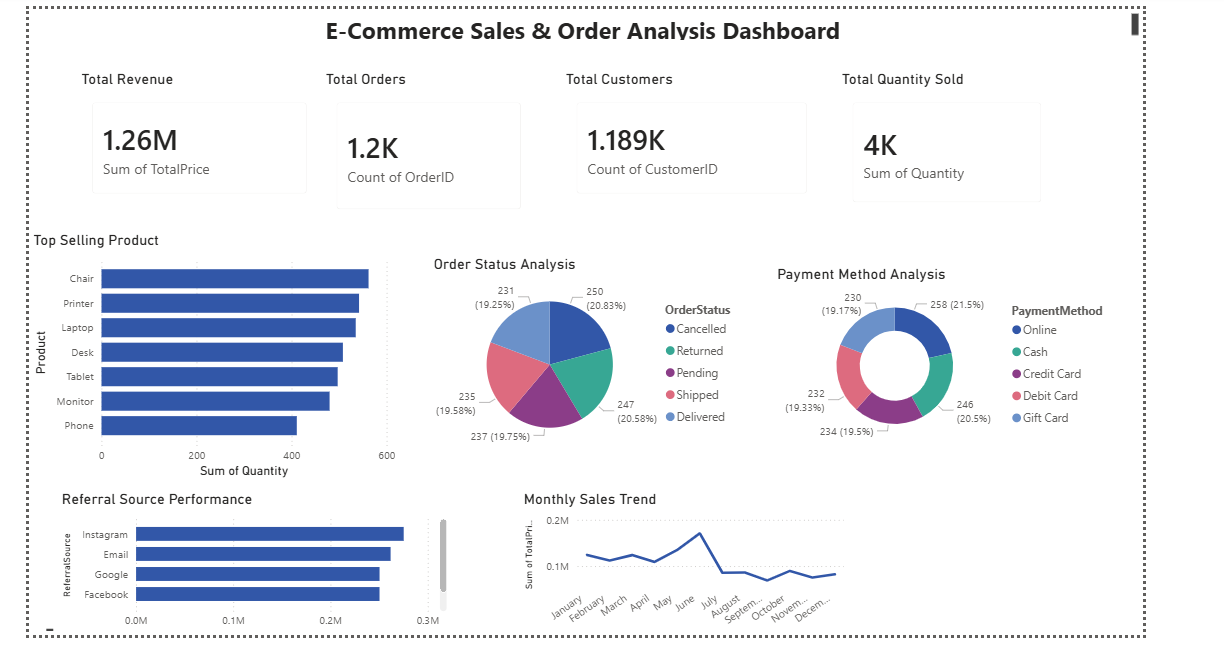

This screenshot's page, from the dashboard's own definition file:
{"tool":"powerbi","page":{"name":"Page 1","canvas":[1280,720],"ordinal":0},"visuals":[{"type":"cardVisual","title":"Total Orders","fields":{"Data":["Count(Sheet1.OrderID)"]},"box":[336.3,71.2,246.8,177.2],"z":1},{"type":"cardVisual","title":"Total Revenue","fields":{"Data":["Sum(Sheet1.TotalPrice)"]},"box":[54.7,71.2,281.6,159],"z":2},{"type":"cardVisual","title":"Total Customers","fields":{"Data":["Count(Sheet1.CustomerID)"]},"box":[612.9,71.2,299.8,159],"z":3},{"type":"cardVisual","title":"Total Quantity Sold","fields":{"Data":["Sum(Sheet1.Quantity)"]},"box":[929.3,71.2,251.8,169],"z":4},{"type":"clusteredBarChart","title":"Top Selling Product","fields":{"Category":["Sheet1.Product"],"Y":["Sum(Sheet1.Quantity)"]},"box":[0,255.1,425.7,288.2],"z":5},{"type":"pieChart","title":"Order Status Analysis","fields":{"Category":["Sheet1.OrderStatus"],"Y":["CountNonNull(Sheet1.OrderID)"]},"box":[460.5,283.3,367.7,231.9],"z":6},{"type":"donutChart","title":" Payment Method Analysis","fields":{"Category":["Sheet1.PaymentMethod"],"Y":["CountNonNull(Sheet1.OrderID)"]},"box":[854.7,294.9,399.2,210.4],"z":7},{"type":"clusteredBarChart","title":" Referral Source Performance","fields":{"Category":["Sheet1.ReferralSource"],"Y":["Sum(Sheet1.TotalPrice)"]},"box":[33.1,553.3,452.2,167.3],"z":8},{"type":"lineChart","title":"Monthly Sales Trend","fields":{"Category":["Sheet1.Date.Variation.Date Hierarchy.Month"],"Y":["Sum(Sheet1.TotalPrice)"]},"box":[563.2,553.3,377.7,167.3],"z":9},{"type":"textbox","box":[0,707.3,33.1,13.3],"z":10},{"type":"textbox","box":[0,0,1280.5,39.8],"z":11}]}

Visuals, with their boxes on the page's 1280x720 design canvas (x1, y1, x2, y2). These are canvas units, not pixel positions in the 1224x650 screenshot, which may show the page scaled, cropped or inside an application window:
"Total Orders" cardVisual: [left=336, top=71, right=583, bottom=248]
"Total Revenue" cardVisual: [left=55, top=71, right=336, bottom=230]
"Total Customers" cardVisual: [left=613, top=71, right=913, bottom=230]
"Total Quantity Sold" cardVisual: [left=929, top=71, right=1181, bottom=240]
"Top Selling Product" clusteredBarChart: [left=0, top=255, right=426, bottom=543]
"Order Status Analysis" pieChart: [left=460, top=283, right=828, bottom=515]
" Payment Method Analysis" donutChart: [left=855, top=295, right=1254, bottom=505]
" Referral Source Performance" clusteredBarChart: [left=33, top=553, right=485, bottom=721]
"Monthly Sales Trend" lineChart: [left=563, top=553, right=941, bottom=721]
textbox: [left=0, top=707, right=33, bottom=721]
textbox: [left=0, top=0, right=1280, bottom=40]
